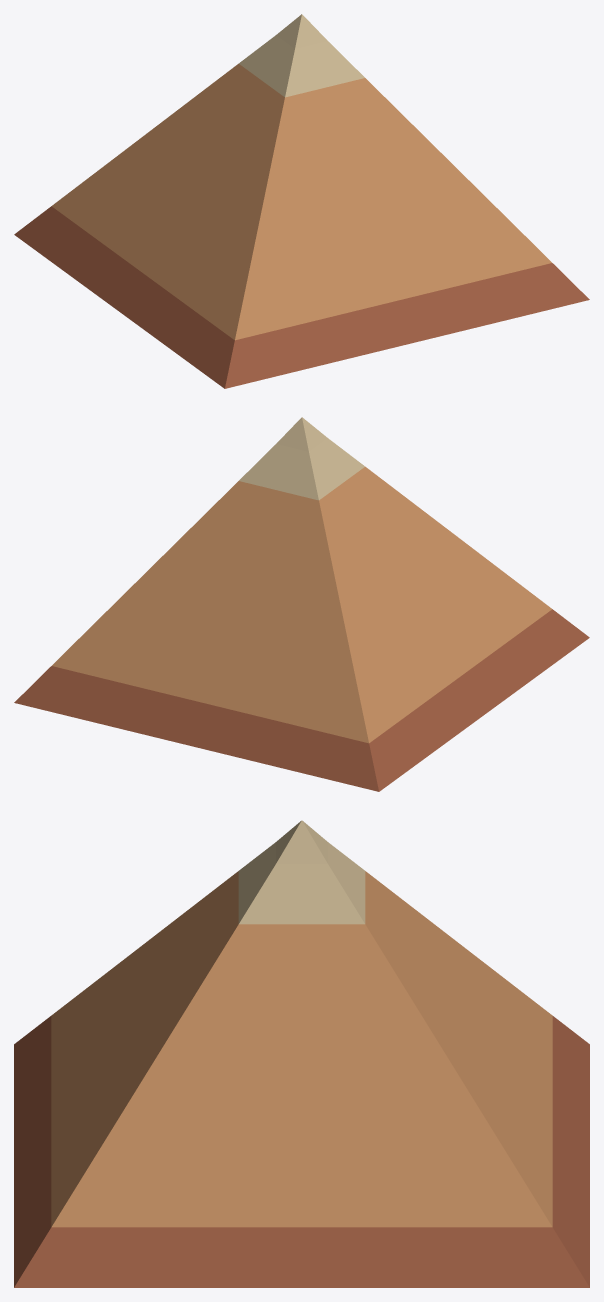
3 renders of one model, top to bottom at view 1: azimuth 30°, elevation 25°; view 2: azimuth 150°, elevation 25°; view 3: azimuth 270°, elevation 25°, orthographic. The views are drawn at different scales.
Visible parts, largest first — view 1: Pyramid; view 2: Pyramid; view 3: Pyramid.
Part boxes in pixels (left/top/right/bottom): Pyramid: left=14, top=14, right=589, bottom=388; Pyramid: left=14, top=417, right=589, bottom=791; Pyramid: left=14, top=820, right=589, bottom=1287.
Bounding box in the file's own units: 100 × 66.28 × 100.
